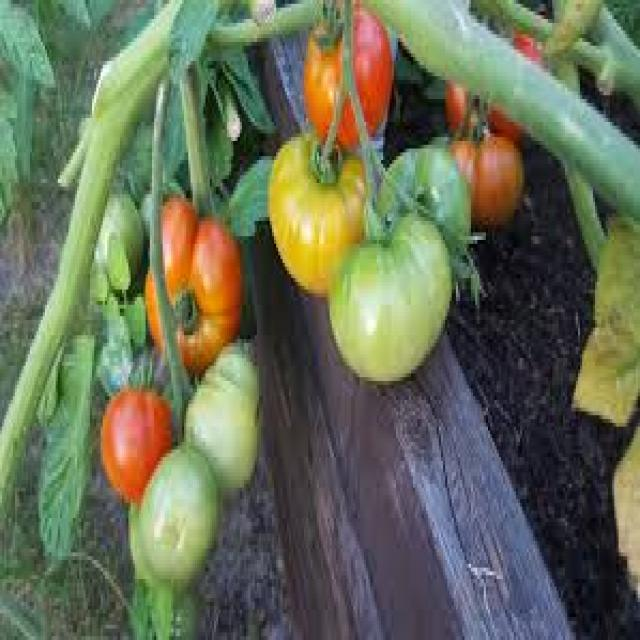organic waste: (323, 214, 452, 374), (143, 187, 242, 381), (268, 122, 374, 301), (366, 141, 469, 282), (441, 19, 548, 145), (178, 339, 259, 499), (130, 446, 224, 583), (300, 8, 390, 148), (96, 381, 172, 495), (445, 118, 520, 225), (92, 194, 141, 309)
